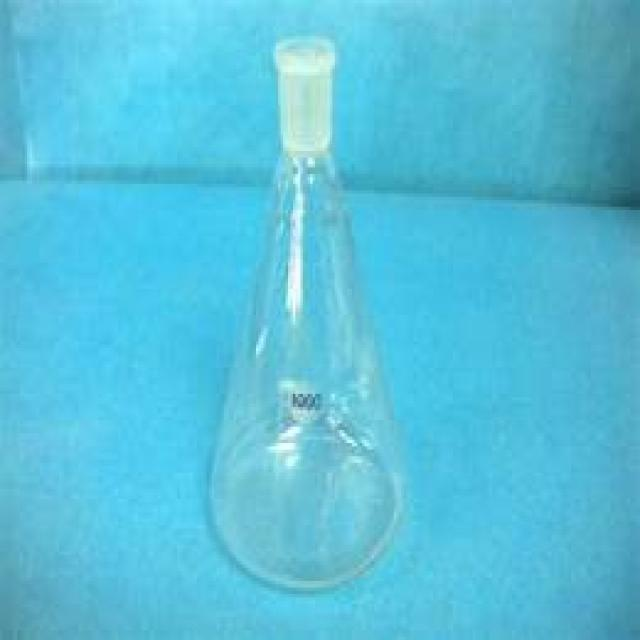Titrarion: (196, 41, 406, 587)
